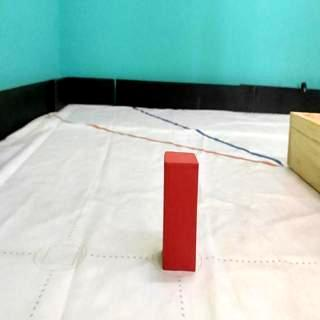redbox: (163, 152, 198, 271)
